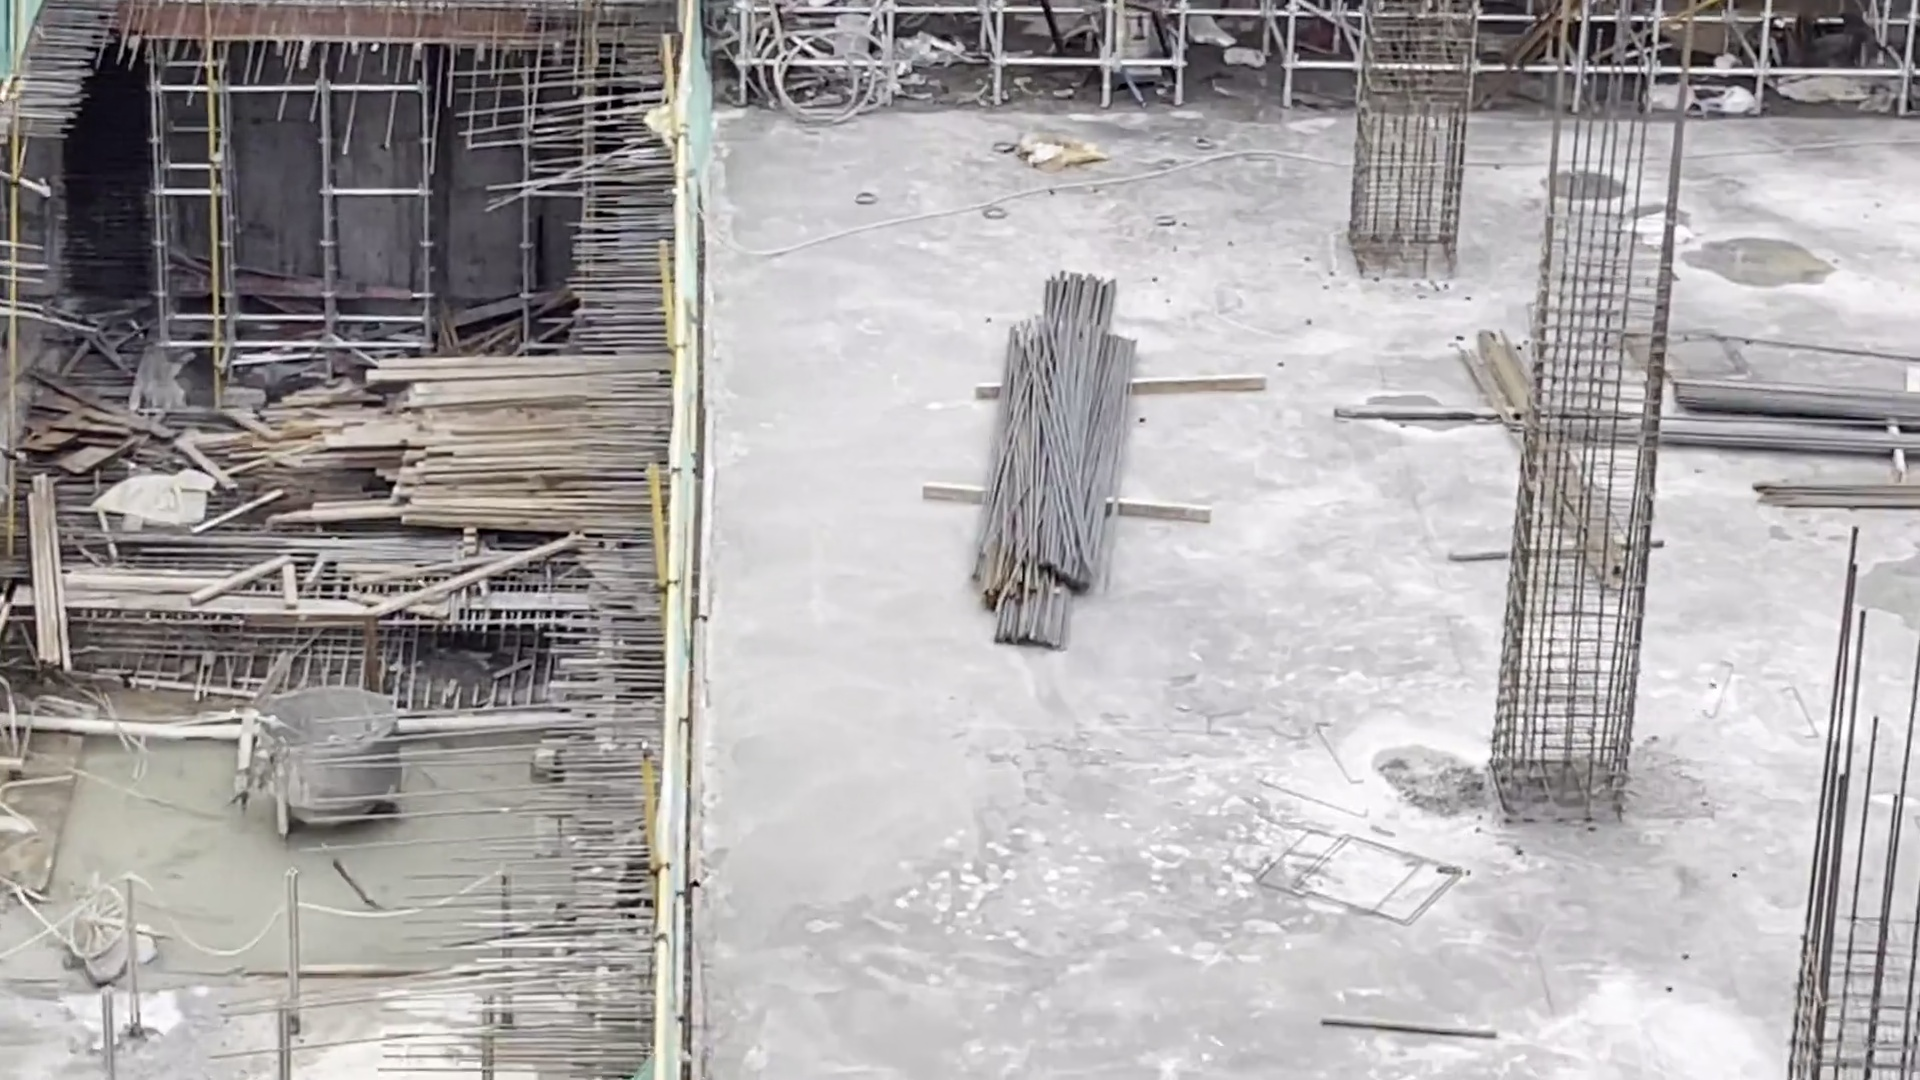rebar: (982, 265, 1139, 665)
wood: (356, 338, 680, 526)
